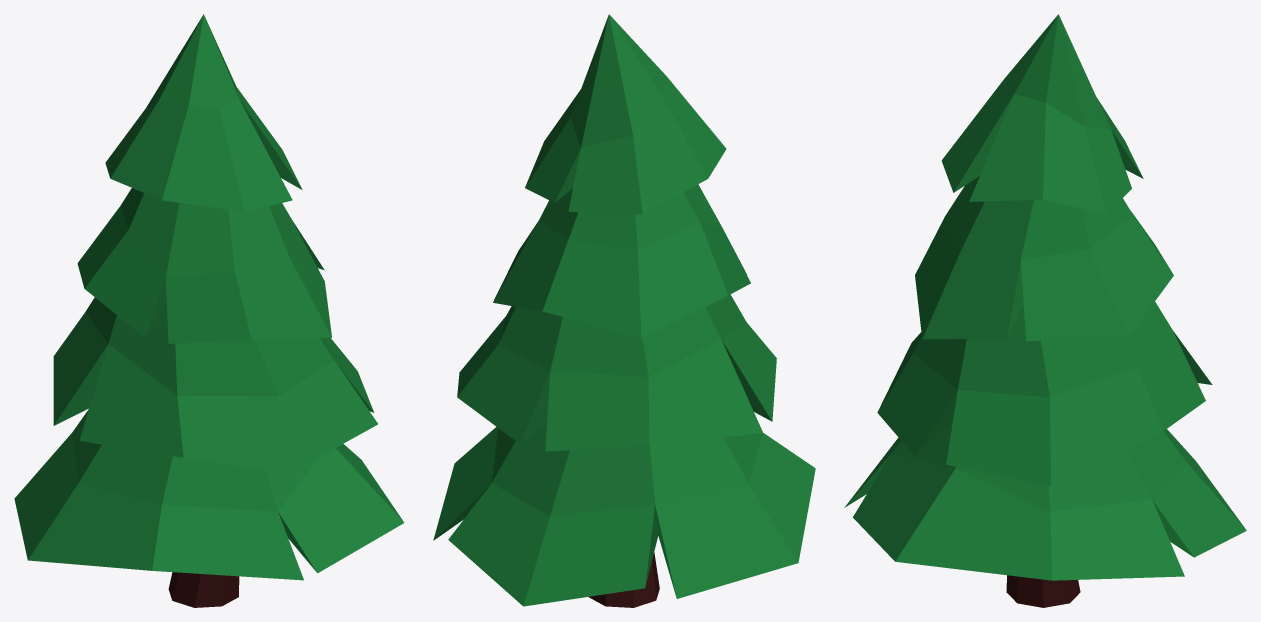
Rendered from smallTree.glb.
3 views of the same model, side by side, from view 1: azimuth 30°, elevation 25°; view 2: azimuth 150°, elevation 25°; view 3: azimuth 270°, elevation 25° (orthographic).
Parts seen in each view (by area): view 1: conifer4_Cylinder.001; view 2: conifer4_Cylinder.001; view 3: conifer4_Cylinder.001.
Boxes of the visible parts, x1,y1,x2,y2 form: conifer4_Cylinder.001: (14,14,404,607); conifer4_Cylinder.001: (433,14,815,607); conifer4_Cylinder.001: (844,14,1246,607).
Size of the model in its own units: 6.66 by 10.84 by 6.8.
